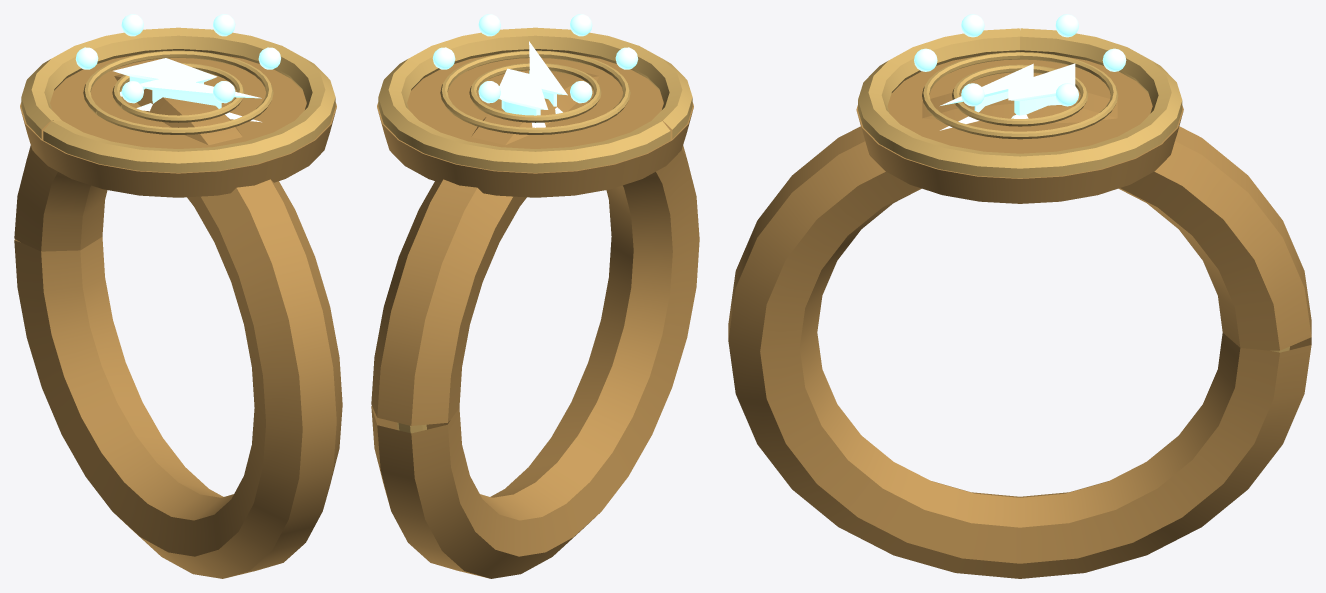
The model's file is boss_thunder_abbot_accessory_2.glb.
3 views of the same model, side by side, from view 1: azimuth 30°, elevation 25°; view 2: azimuth 150°, elevation 25°; view 3: azimuth 270°, elevation 25° (orthographic). The views are drawn at different scales.
Parts seen in each view (by area): view 1: boss_thunder_abbot_accessory_2; view 2: boss_thunder_abbot_accessory_2; view 3: boss_thunder_abbot_accessory_2.
Part boxes in pixels (box(x1,y1,x2,y2)): boss_thunder_abbot_accessory_2: box(14, 14, 342, 578); boss_thunder_abbot_accessory_2: box(371, 14, 699, 578); boss_thunder_abbot_accessory_2: box(728, 14, 1311, 578).
Bounding box in the file's own units: 0.084 × 0.1474 × 0.1496.
